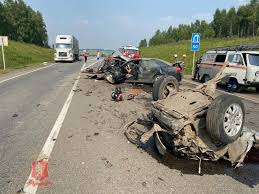car: (135, 79, 259, 161), (187, 44, 259, 96), (101, 50, 185, 92)
